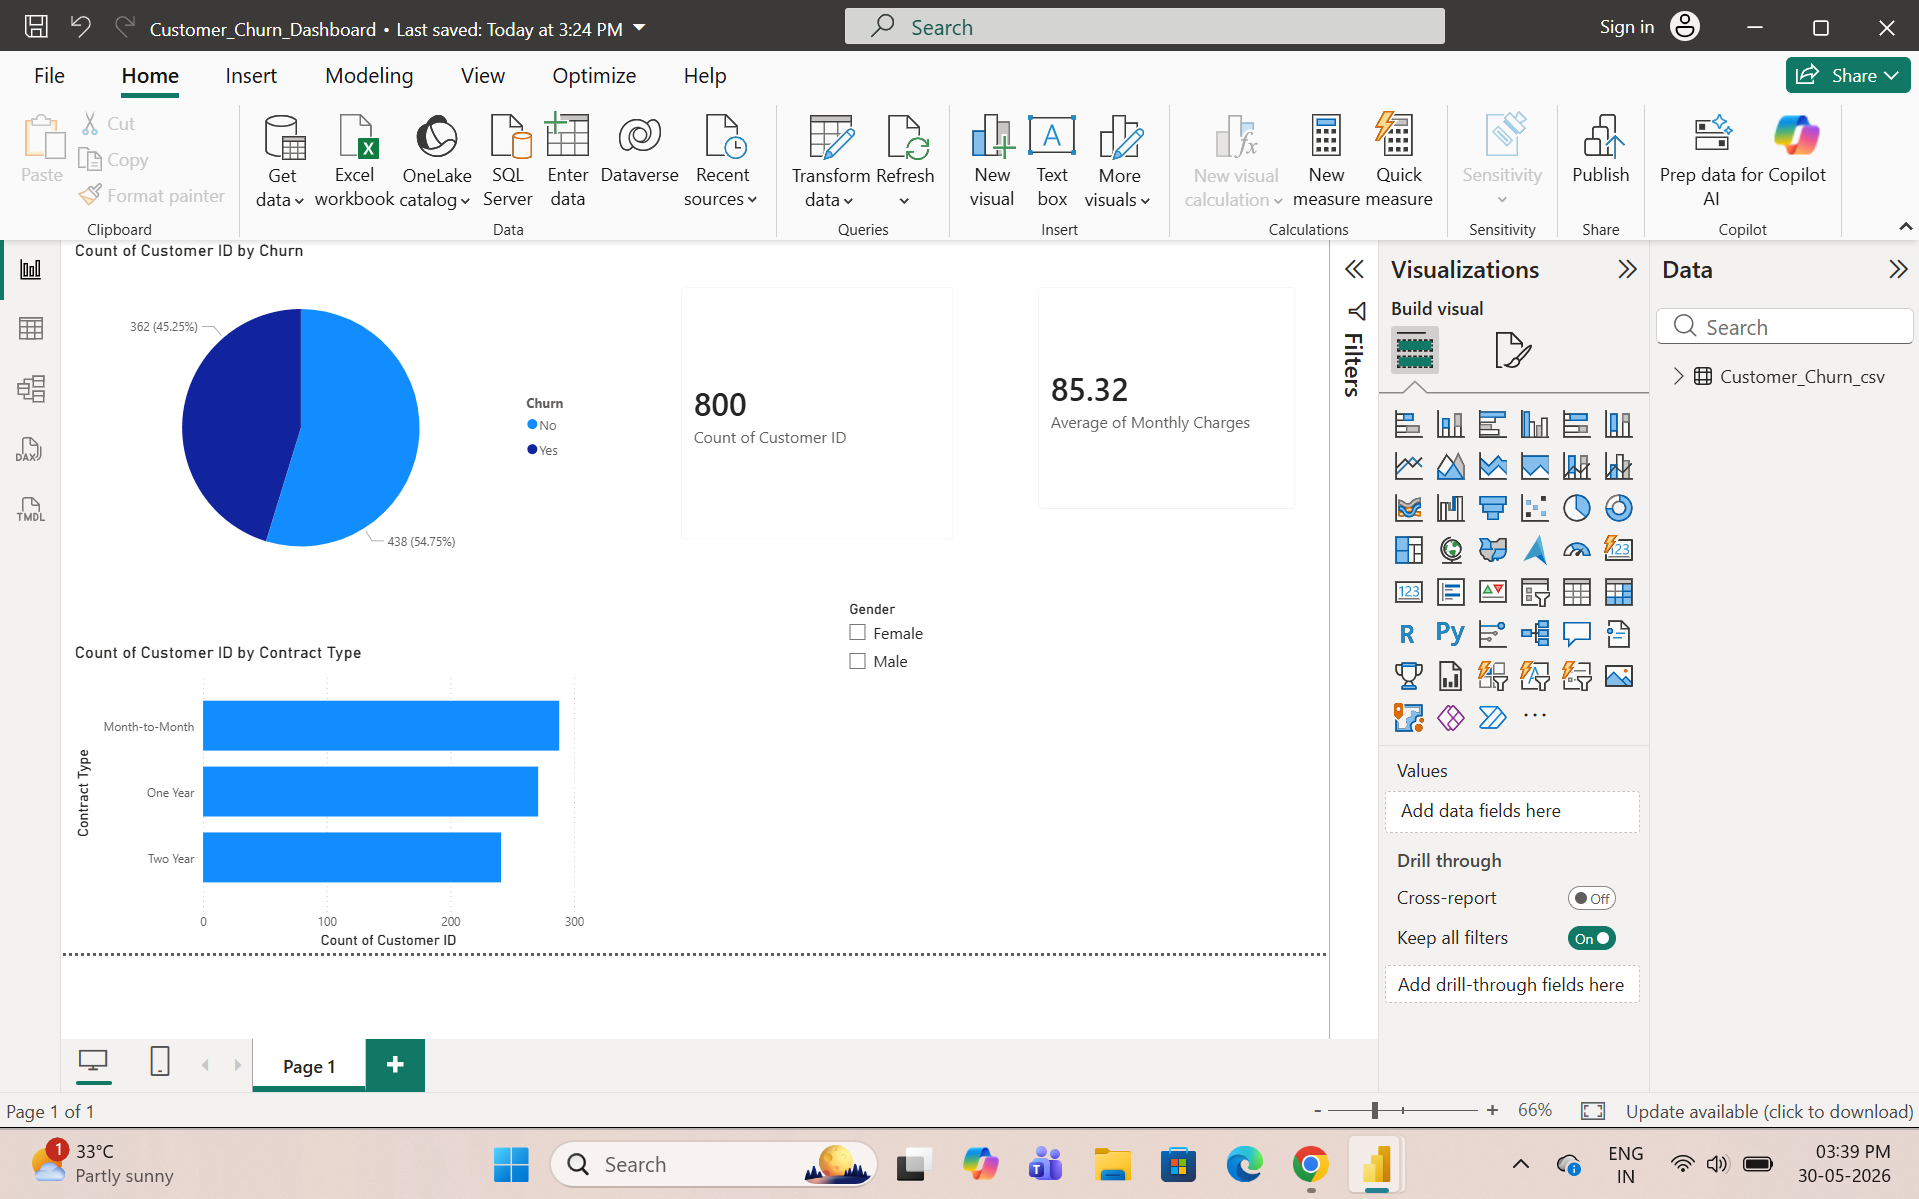

The page's visual inventory and layout, read from the dashboard file:
{"tool":"powerbi","page":{"name":"Page 1","canvas":[1280,720],"ordinal":0},"visuals":[{"type":"pieChart","fields":{"Category":["Customer_Churn_csv.Churn"],"Y":["CountNonNull(Customer_Churn_csv.Customer ID)"]},"box":[9.4,0,523.5,359.1],"z":0},{"type":"cardVisual","fields":{"Data":["CountNonNull(Customer_Churn_csv.Customer ID)"]},"box":[608.5,30.2,309.9,289.1],"z":1000},{"type":"cardVisual","fields":{"Data":["Avg(Customer_Churn_csv.Monthly Charges)"]},"box":[969.5,30.2,294.8,258.9],"z":2000},{"type":"clusteredBarChart","fields":{"Category":["Customer_Churn_csv.Contract Type"],"Y":["CountNonNull(Customer_Churn_csv.Customer ID)"]},"box":[9.4,406.3,523.5,313.7],"z":3000},{"type":"slicer","fields":{"Values":["Customer_Churn_csv.Gender"]},"box":[782.4,359.1,309.9,313.7],"z":4000}]}

Visuals, with their boxes on the page's 1280x720 design canvas (x1, y1, x2, y2). These are canvas units, not pixel positions in the 1919x1199 screenshot, which may show the page scaled, cropped or inside an application window:
pieChart - Customer_Churn_csv.Churn x CountNonNull(Customer_Churn_csv.Customer ID): <box>9,0,533,359</box>
cardVisual - CountNonNull(Customer_Churn_csv.Customer ID): <box>608,30,918,319</box>
cardVisual - Avg(Customer_Churn_csv.Monthly Charges): <box>970,30,1264,289</box>
clusteredBarChart - Customer_Churn_csv.Contract Type x CountNonNull(Customer_Churn_csv.Customer ID): <box>9,406,533,720</box>
slicer - Customer_Churn_csv.Gender: <box>782,359,1092,673</box>
